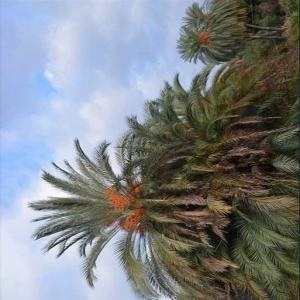palm tree: (26, 0, 298, 299)
